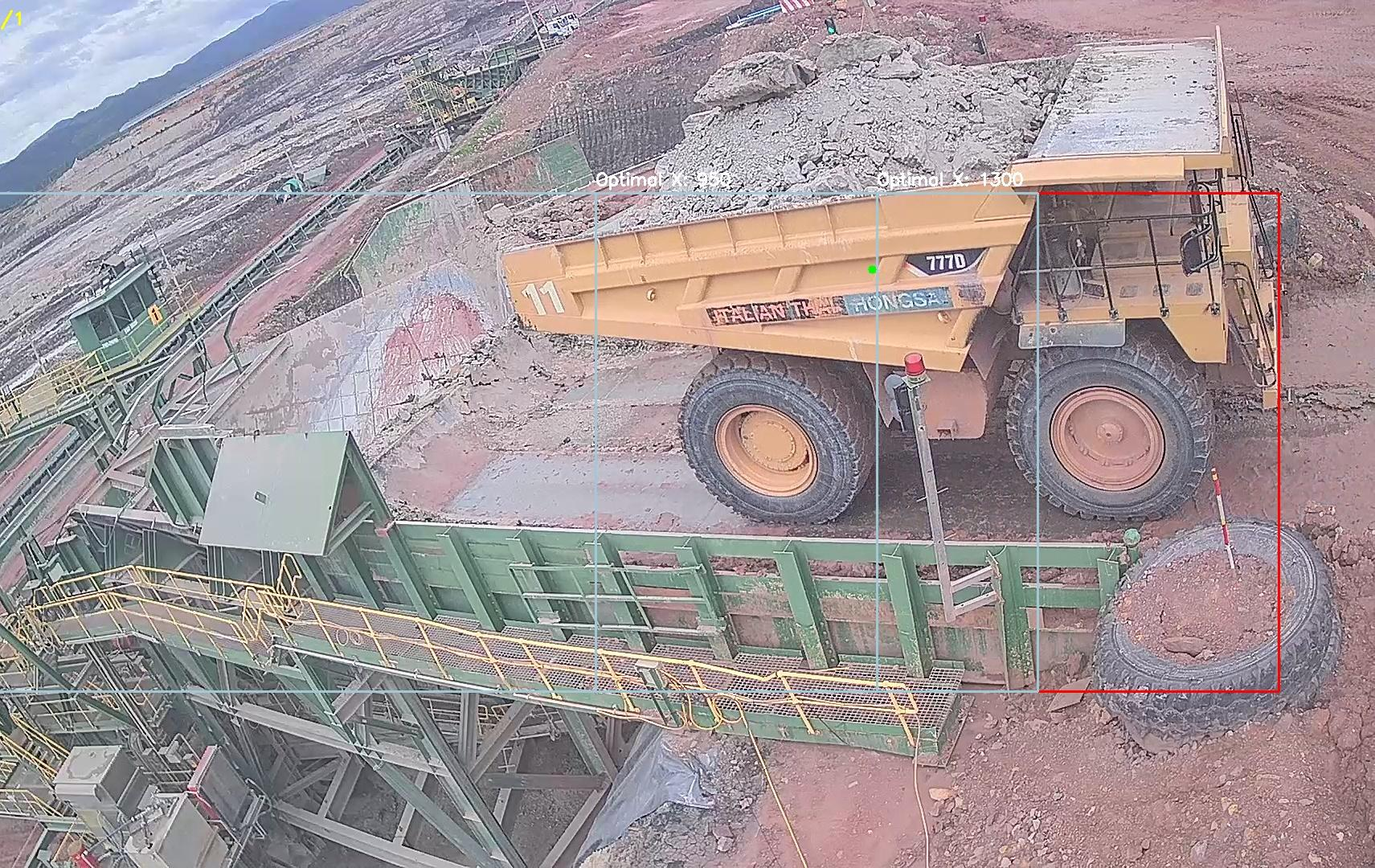company: (696, 285, 961, 335)
full_load: (662, 21, 1018, 208)
mining_truck: (483, 8, 1296, 528)
tail_number: (510, 266, 581, 331)
truck_size: (894, 241, 984, 277)
